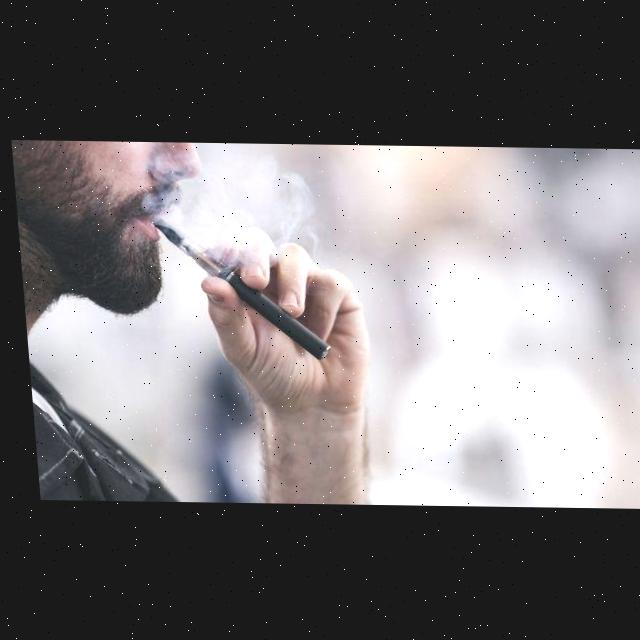vape: (150, 217, 325, 360)
